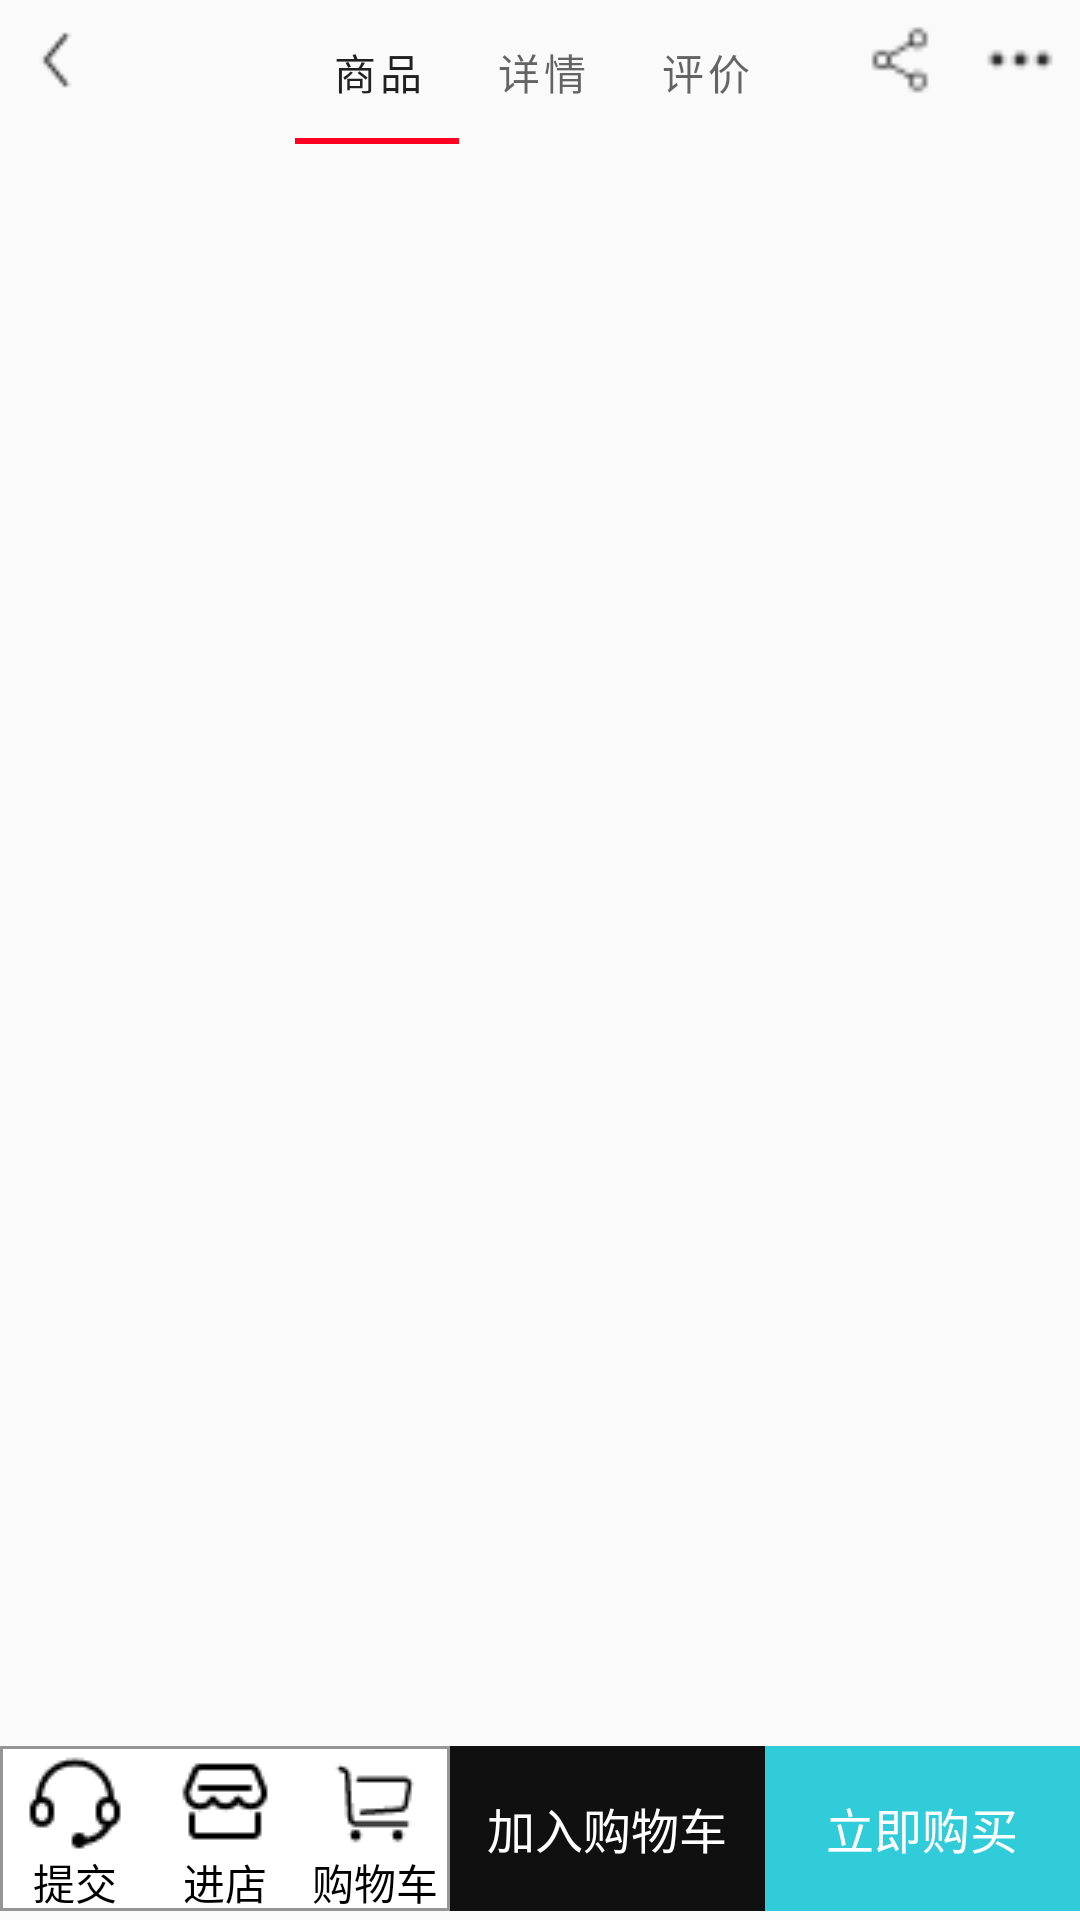

Where to tap for icons on this 1080px×1920px app screen, as [x,y]:
menu: [1020,59]
reback: [56,60]
share: [899,60]
